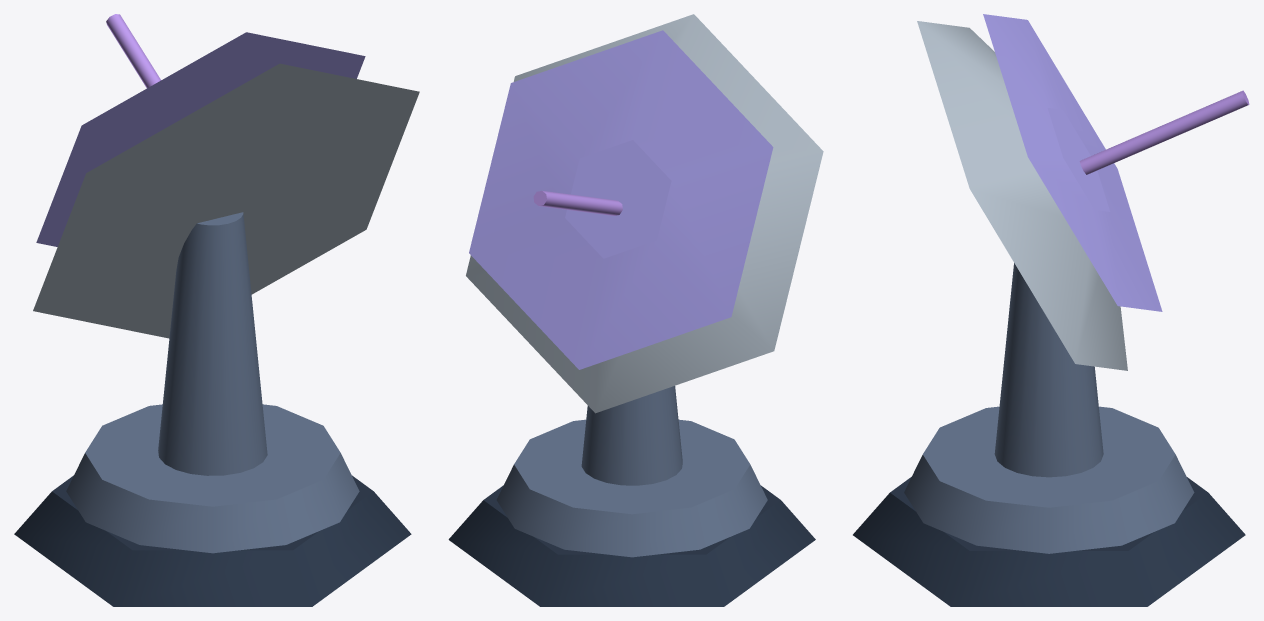
The model's file is cryogenic_hydrocarbon--sensor_array.glb.
3 renders of one model, left to right at view 1: azimuth 30°, elevation 25°; view 2: azimuth 150°, elevation 25°; view 3: azimuth 270°, elevation 25°, orthographic. The views are drawn at different scales.
Parts seen in each view (by area): view 1: sensor_dish_4, rotation_bearing_2, mount_adapter_1, sensor_mast_3, array_face_5, receiver_6; view 2: array_face_5, sensor_dish_4, rotation_bearing_2, mount_adapter_1, sensor_mast_3, receiver_6; view 3: rotation_bearing_2, sensor_dish_4, mount_adapter_1, array_face_5, sensor_mast_3, receiver_6.
Boxes of the visible parts, <box> form: sensor_dish_4: <box>33,63,419,338</box>; rotation_bearing_2: <box>66,404,359,553</box>; mount_adapter_1: <box>14,475,411,606</box>; sensor_mast_3: <box>158,212,267,475</box>; array_face_5: <box>36,32,365,246</box>; receiver_6: <box>106,14,160,88</box>; array_face_5: <box>469,30,773,369</box>; sensor_dish_4: <box>466,14,823,413</box>; rotation_bearing_2: <box>496,419,767,557</box>; mount_adapter_1: <box>448,485,815,606</box>; sensor_mast_3: <box>581,386,682,485</box>; receiver_6: <box>533,190,622,215</box>; rotation_bearing_2: <box>904,406,1194,553</box>; sensor_dish_4: <box>917,21,1127,370</box>; mount_adapter_1: <box>853,477,1245,606</box>; array_face_5: <box>983,14,1162,311</box>; sensor_mast_3: <box>994,263,1103,477</box>; receiver_6: <box>1079,90,1249,174</box>.
Size of the model in its own units: 9.77 by 14.73 by 10.17.
